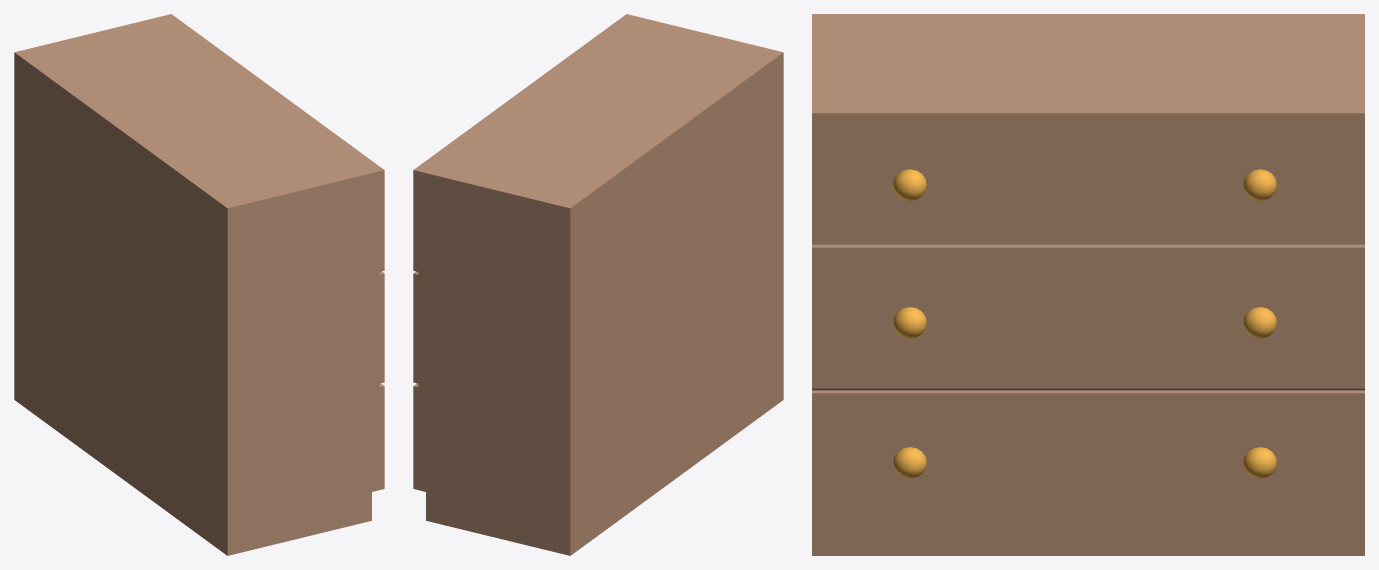
The model's file is Drawer.fbx.
3 renders of one model, left to right at view 1: azimuth 30°, elevation 25°; view 2: azimuth 150°, elevation 25°; view 3: azimuth 270°, elevation 25°, orthographic. The views are drawn at different scales.
Parts seen in each view (by area): view 1: Drawer; view 2: Drawer; view 3: Drawer.
Boxes of the visible parts, x1,y1,x2,y2 form: Drawer: (14, 14, 384, 555); Drawer: (413, 14, 783, 555); Drawer: (812, 14, 1364, 555).
Size of the model in its own units: 244 by 460 by 512.
